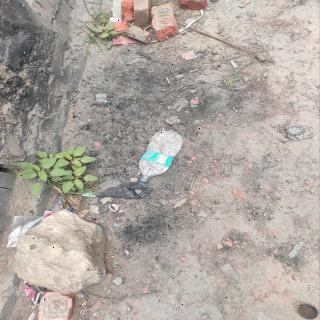Plastic-bottle: (137, 129, 188, 187)
